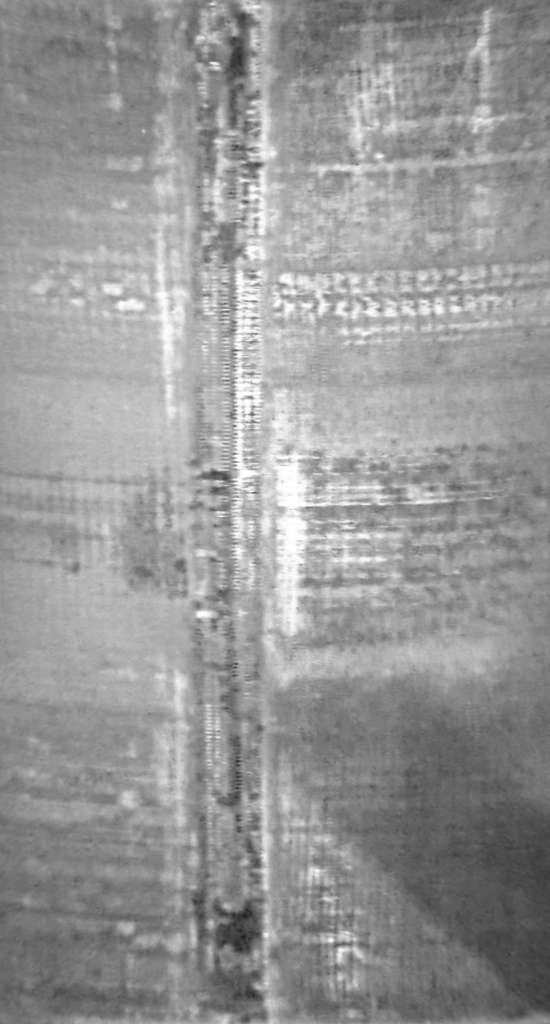splice: (181, 5, 284, 1024)
